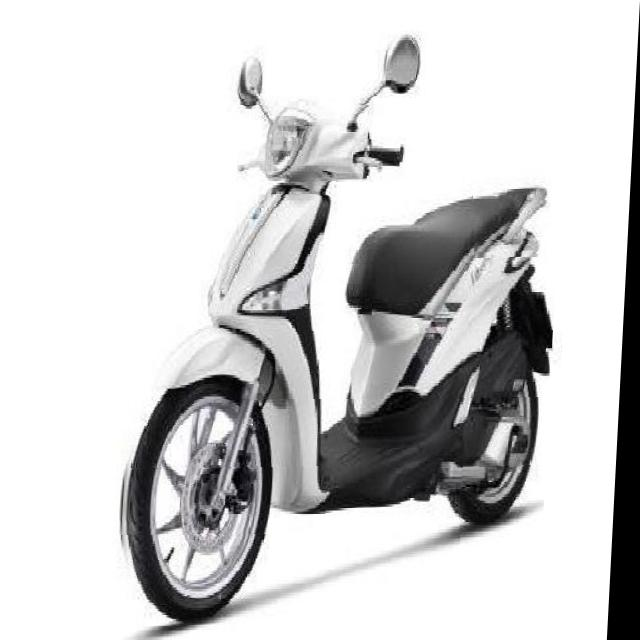All: (117, 96, 566, 626)
Head: (235, 103, 404, 182)
Tail: (471, 180, 552, 258)
